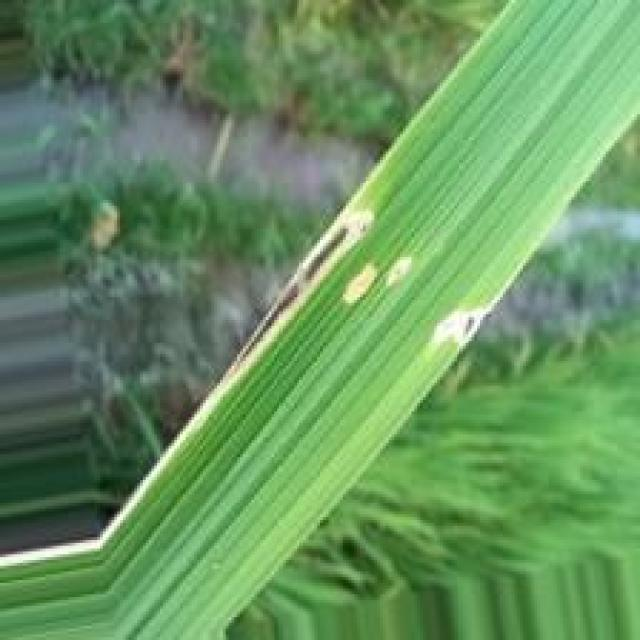Rice_Hispa: (0, 208, 389, 573), (427, 309, 491, 347), (335, 259, 376, 304)
